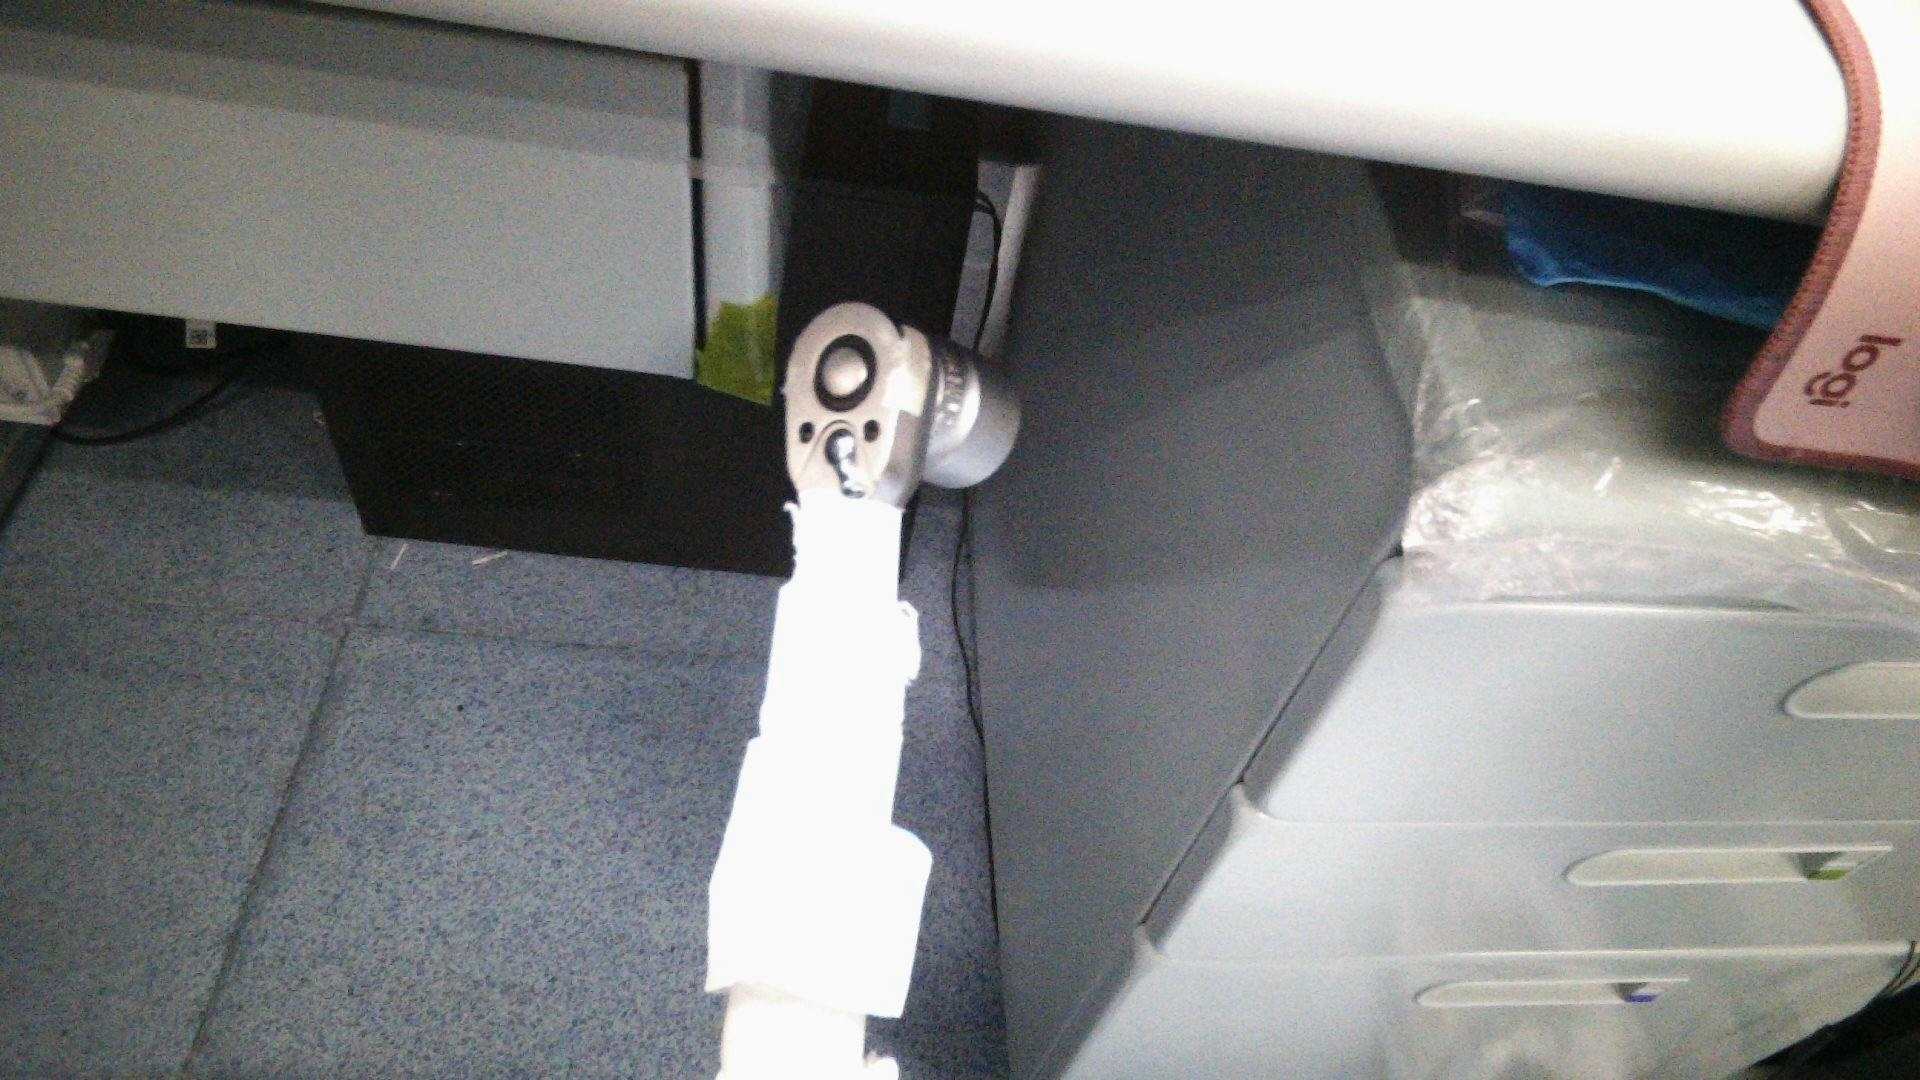wrench: (800, 328, 881, 419)
